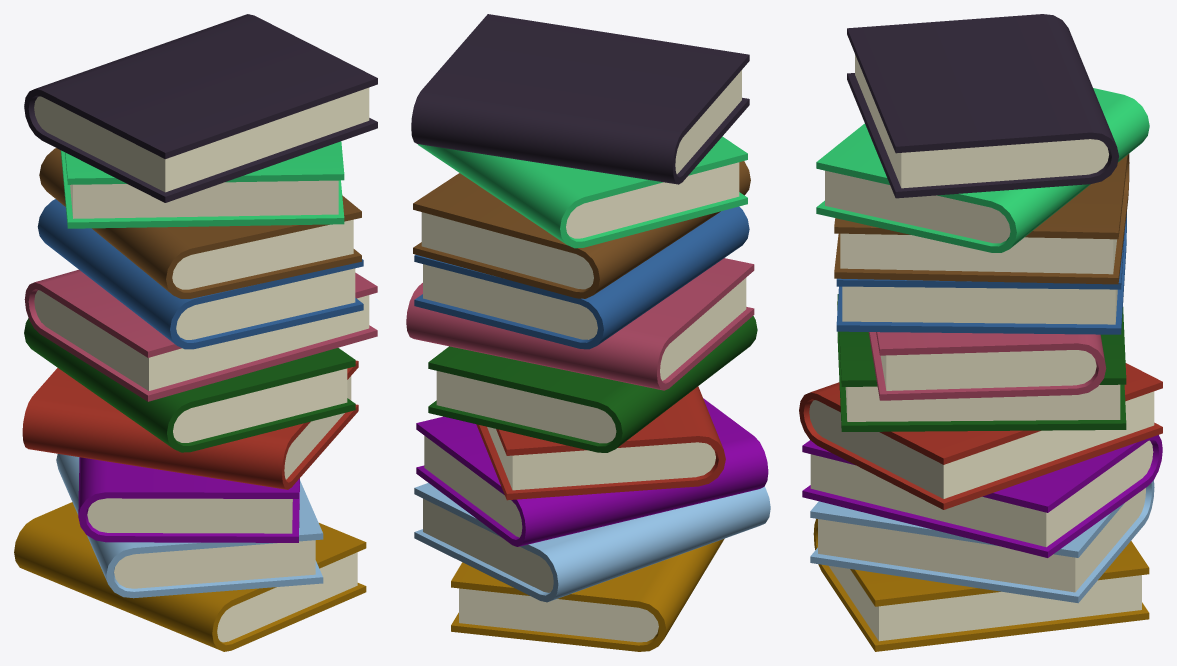
The picture shows the model from 3 angles, left to right: view 1: azimuth 30°, elevation 25°; view 2: azimuth 150°, elevation 25°; view 3: azimuth 270°, elevation 25°; orthographic projection. The views are drawn at different scales.
Parts seen in each view (by area): view 1: LargeStackOfBooks; view 2: LargeStackOfBooks; view 3: LargeStackOfBooks.
Part boxes in pixels (left/top/right/bottom): LargeStackOfBooks: left=14, top=14, right=377, bottom=651; LargeStackOfBooks: left=406, top=14, right=770, bottom=651; LargeStackOfBooks: left=799, top=14, right=1162, bottom=651.
Size of what is drawn, in the model's own units: 0.4346 by 0.666 by 0.4257.
1 material, 1 textured.
